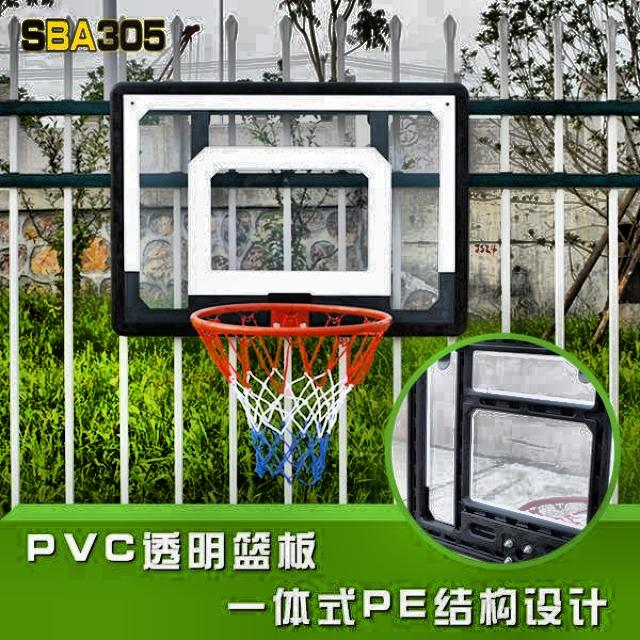rim: (191, 303, 392, 486)
